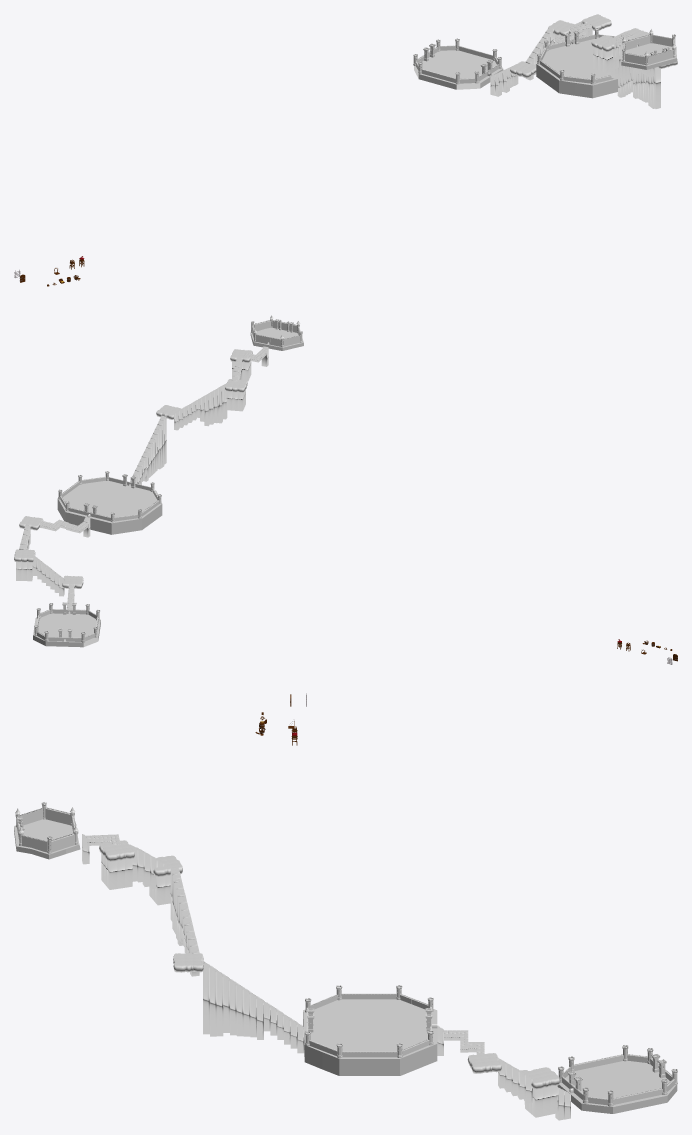
Rendered from AssetsDungeonUnity.fbx.
3 views of the same model, one above another, from view 1: azimuth 30°, elevation 25°; view 2: azimuth 150°, elevation 25°; view 3: azimuth 270°, elevation 25° (orthographic). The views are drawn at different scales.
Parts seen in each view (by area): view 1: 01 Escaleras, 02 Primer Nivel, Tercer Nivel, Cubo.002, 03 Segundo Nivel, TallWall.113; view 2: 01 Escaleras, 03 Segundo Nivel, 02 Primer Nivel, Tercer Nivel, Cubo.002, TallWall.113; view 3: 01 Escaleras, 02 Primer Nivel, TallWall.113, Tercer Nivel, Cubo.002.
Boxes of the visible parts, bbox=[...] form: 01 Escaleras: bbox=[414, 14, 677, 108]; 02 Primer Nivel: bbox=[413, 38, 501, 84]; Tercer Nivel: bbox=[622, 29, 675, 65]; Cubo.002: bbox=[621, 43, 676, 69]; 03 Segundo Nivel: bbox=[537, 28, 614, 84]; TallWall.113: bbox=[537, 28, 614, 83]; 01 Escaleras: bbox=[14, 346, 268, 647]; 03 Segundo Nivel: bbox=[58, 471, 161, 522]; 02 Primer Nivel: bbox=[34, 602, 100, 642]; Tercer Nivel: bbox=[251, 315, 302, 347]; Cubo.002: bbox=[250, 327, 303, 350]; TallWall.113: bbox=[58, 471, 161, 521]; 01 Escaleras: bbox=[82, 834, 677, 1120]; 02 Primer Nivel: bbox=[558, 1045, 677, 1106]; TallWall.113: bbox=[305, 985, 437, 1058]; Tercer Nivel: bbox=[15, 802, 78, 853]; Cubo.002: bbox=[14, 819, 80, 859].
Bounding box in the file's own units: 26434 × 7846 × 17134.
